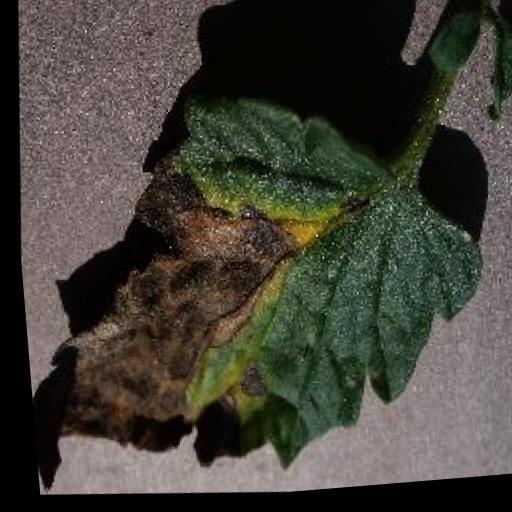Early Blight: (14, 79, 497, 499)
